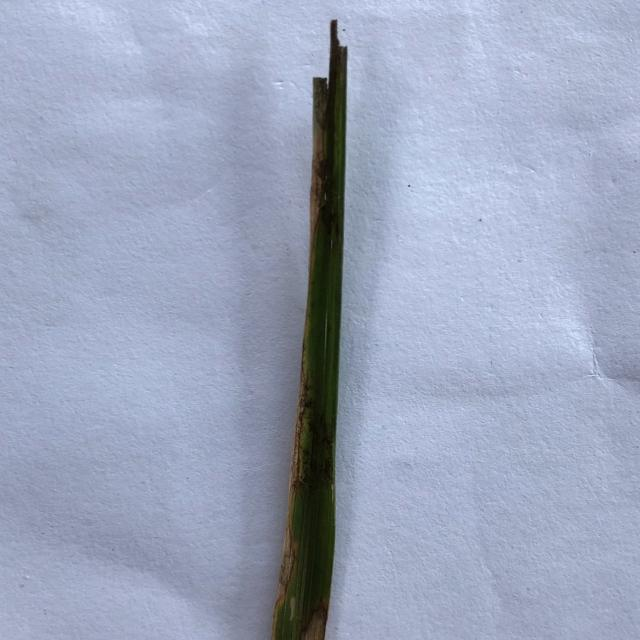leaf blight: (272, 303, 315, 640), (311, 78, 332, 243), (296, 575, 334, 640)
